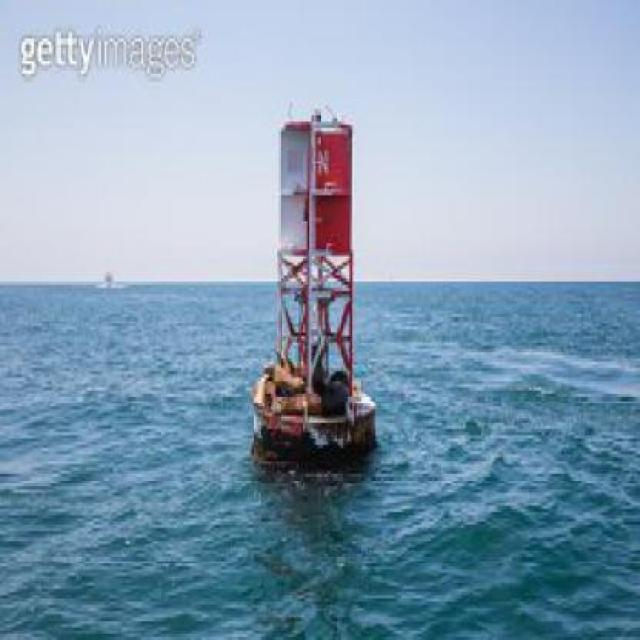buoy: (241, 84, 387, 481)
